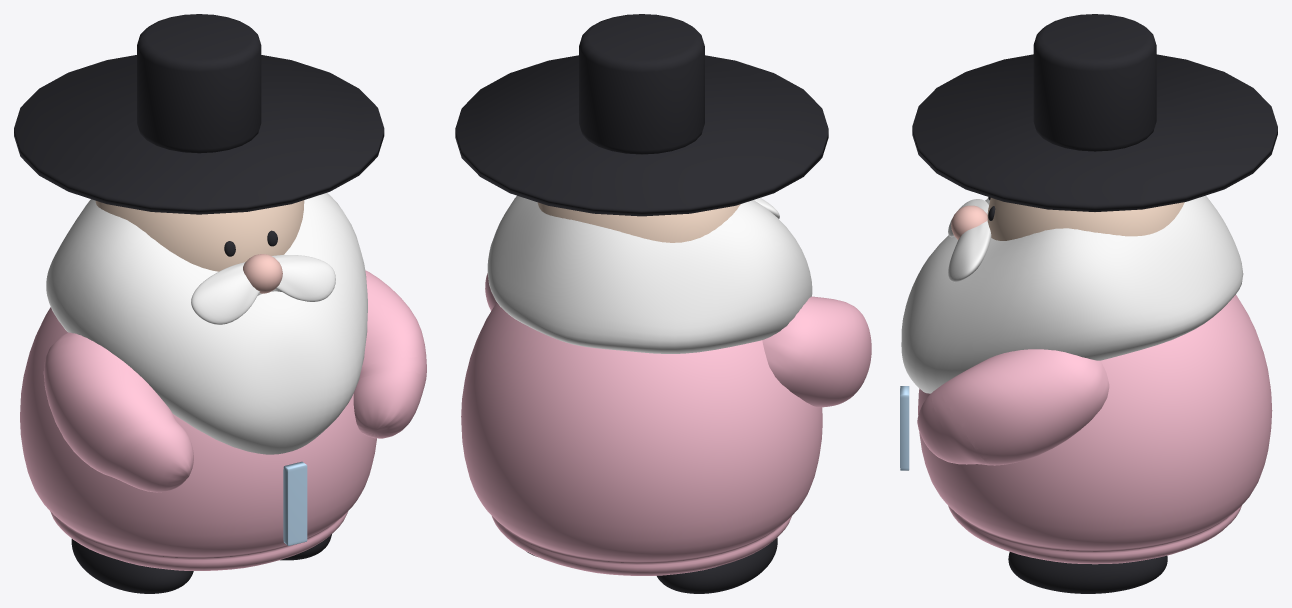
File: hanbok.glb
3 renders of one model, left to right at view 1: azimuth 30°, elevation 25°; view 2: azimuth 150°, elevation 25°; view 3: azimuth 270°, elevation 25°, orthographic. The views are drawn at different scales.
Visible parts, largest first — view 1: hanbok_red, hanbok_black, hanbok_white, hanbok_skin, hanbok_sky, hanbok_nose; view 2: hanbok_red, hanbok_black, hanbok_white, hanbok_skin; view 3: hanbok_red, hanbok_black, hanbok_white, hanbok_skin, hanbok_sky, hanbok_nose.
Boxes of the visible parts, <box> form: hanbok_red: <box>20,270,426,570</box>; hanbok_black: <box>14,14,384,593</box>; hanbok_white: <box>46,193,367,454</box>; hanbok_skin: <box>95,200,304,271</box>; hanbok_sky: <box>283,461,307,545</box>; hanbok_nose: <box>243,254,282,293</box>; hanbok_red: <box>461,273,871,575</box>; hanbok_black: <box>455,14,828,593</box>; hanbok_white: <box>487,195,812,353</box>; hanbok_skin: <box>537,202,740,242</box>; hanbok_red: <box>917,295,1272,564</box>; hanbok_black: <box>912,14,1277,593</box>; hanbok_white: <box>901,195,1243,393</box>; hanbok_skin: <box>987,198,1184,240</box>; hanbok_sky: <box>900,386,909,470</box>; hanbok_nose: <box>951,205,987,239</box>.
Bounding box in the file's own units: 2.14 × 3.02 × 2.03.
